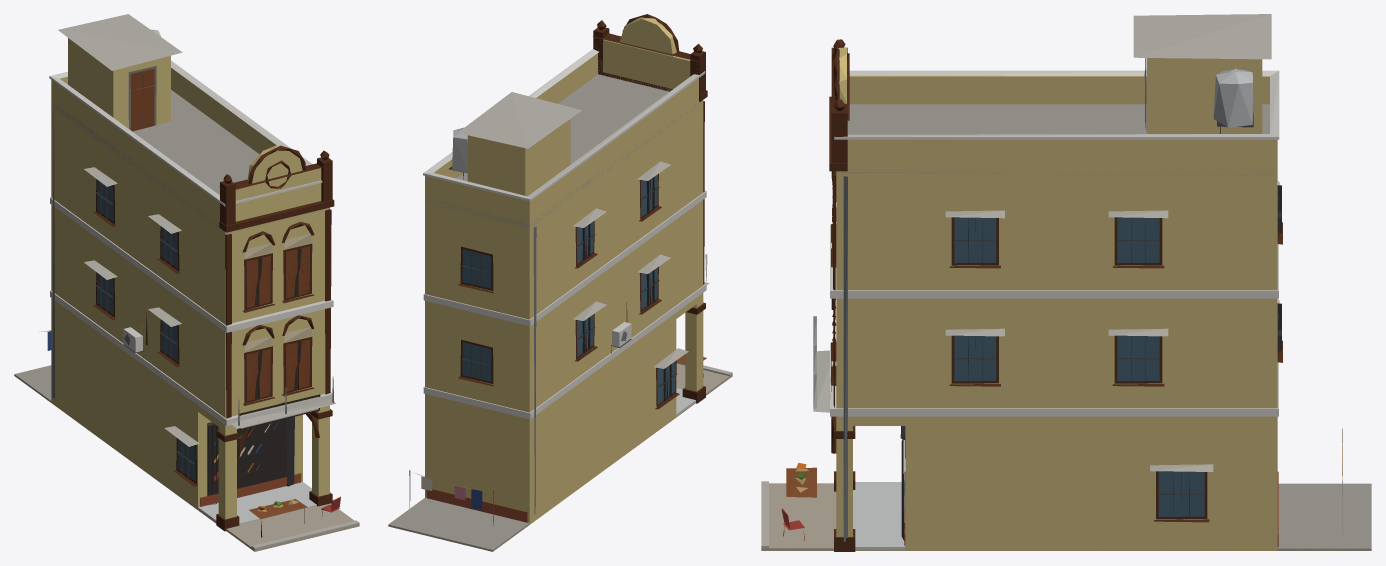
The model's file is bay2_one.glb.
3 renders of one model, left to right at view 1: azimuth 30°, elevation 25°; view 2: azimuth 150°, elevation 25°; view 3: azimuth 270°, elevation 25°, orthographic. The views are drawn at different scales.
Visible parts, largest first — view 1: body, windows; view 2: body, windows; view 3: body, windows.
Part boxes in pixels (x1=…): body: x1=14, y1=14, x2=359, y2=551; windows: x1=96, y1=180, x2=310, y2=495; body: x1=388, y1=14, x2=732, y2=551; windows: x1=462, y1=174, x2=675, y2=404; body: x1=761, y1=14, x2=1371, y2=551; windows: x1=904, y1=182, x2=1279, y2=527.
Bounding box in the file's own units: 4.84 × 13.65 × 15.9.
